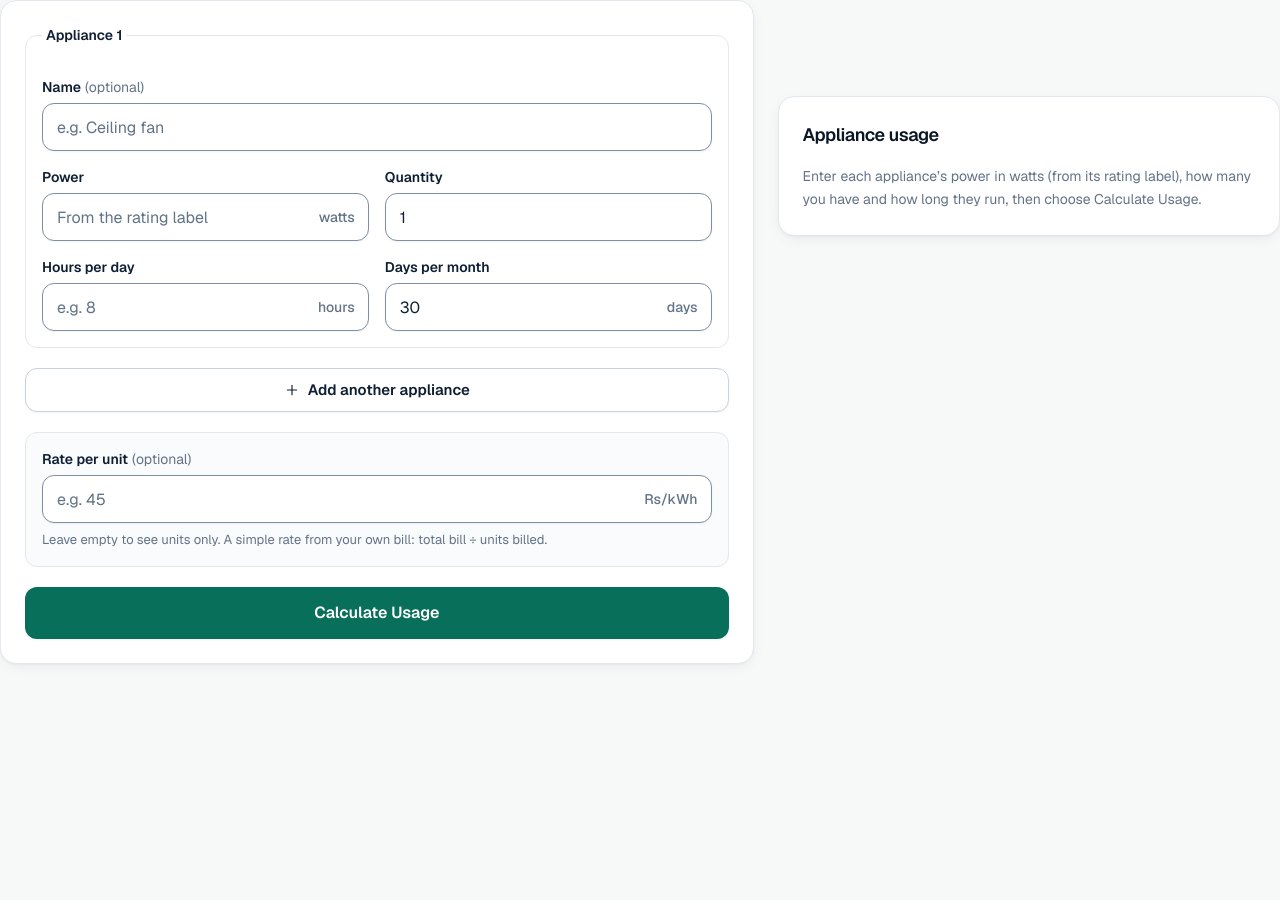
appliance calculator › shows units only when no rate is entered
Type "100" into the field labelled "Power" at (205, 217), box [42, 193, 369, 241]
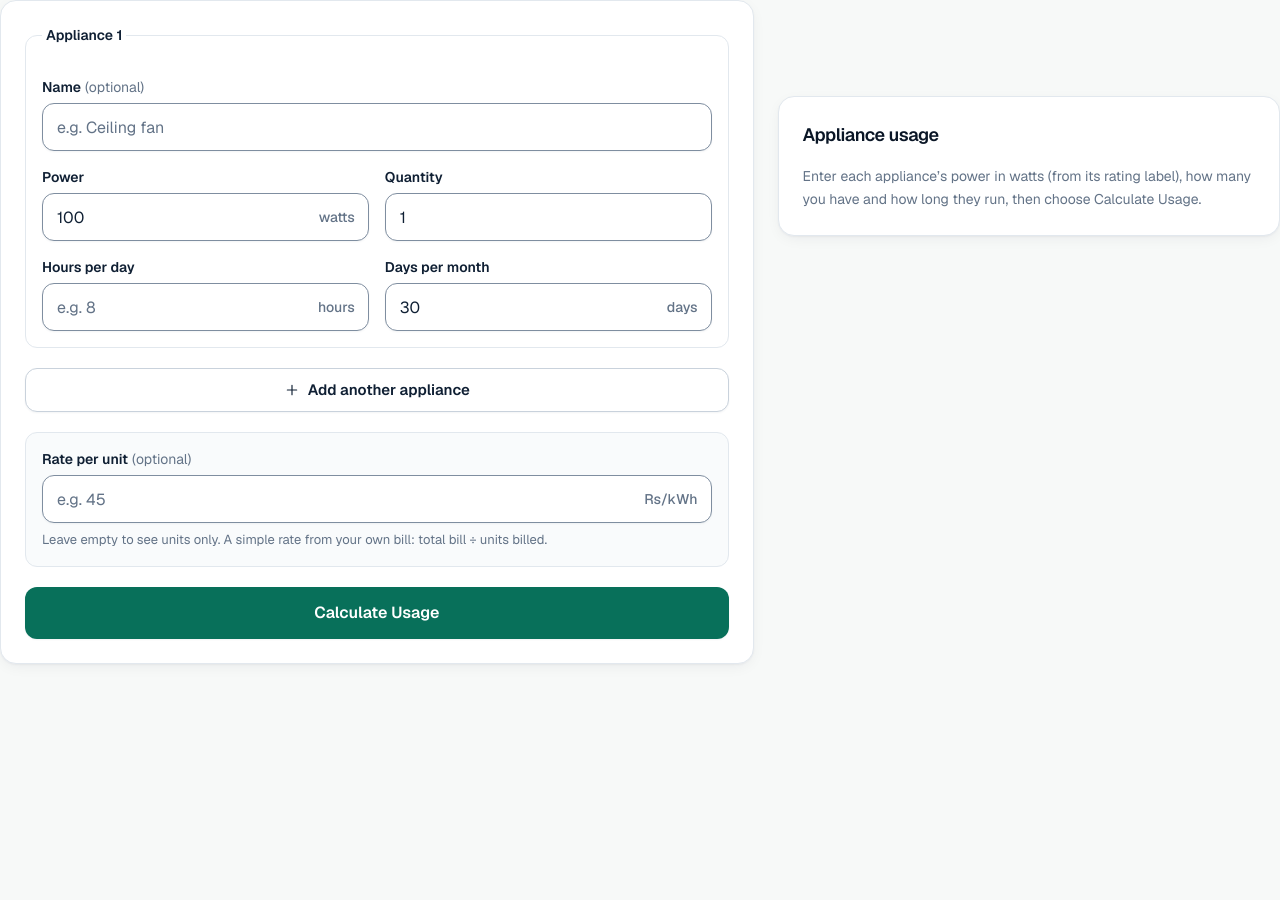
Type "24" into the field labelled "Hours per day" at (205, 307), box [42, 283, 369, 331]
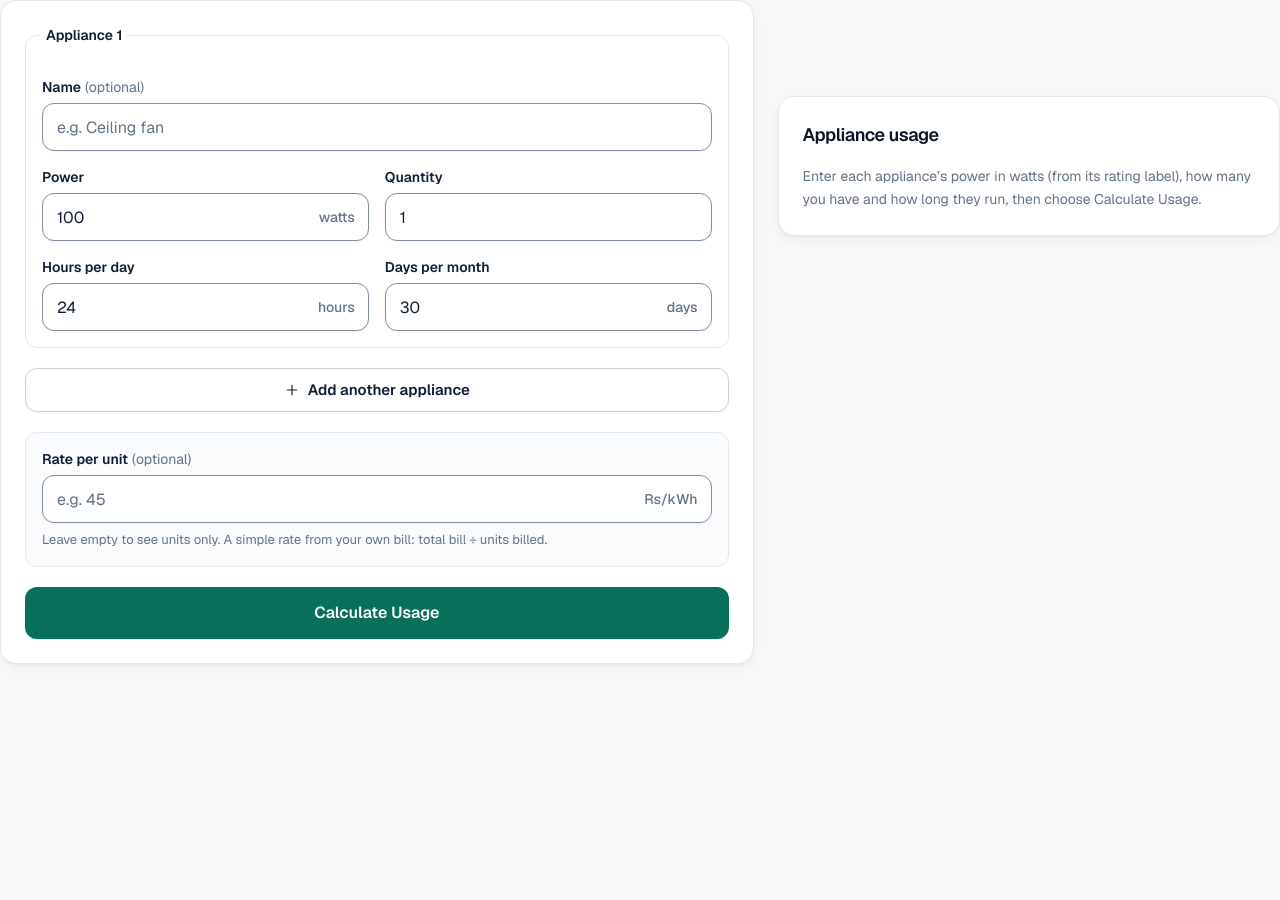
Click the button "Calculate Usage" at (377, 613), box [25, 587, 729, 639]
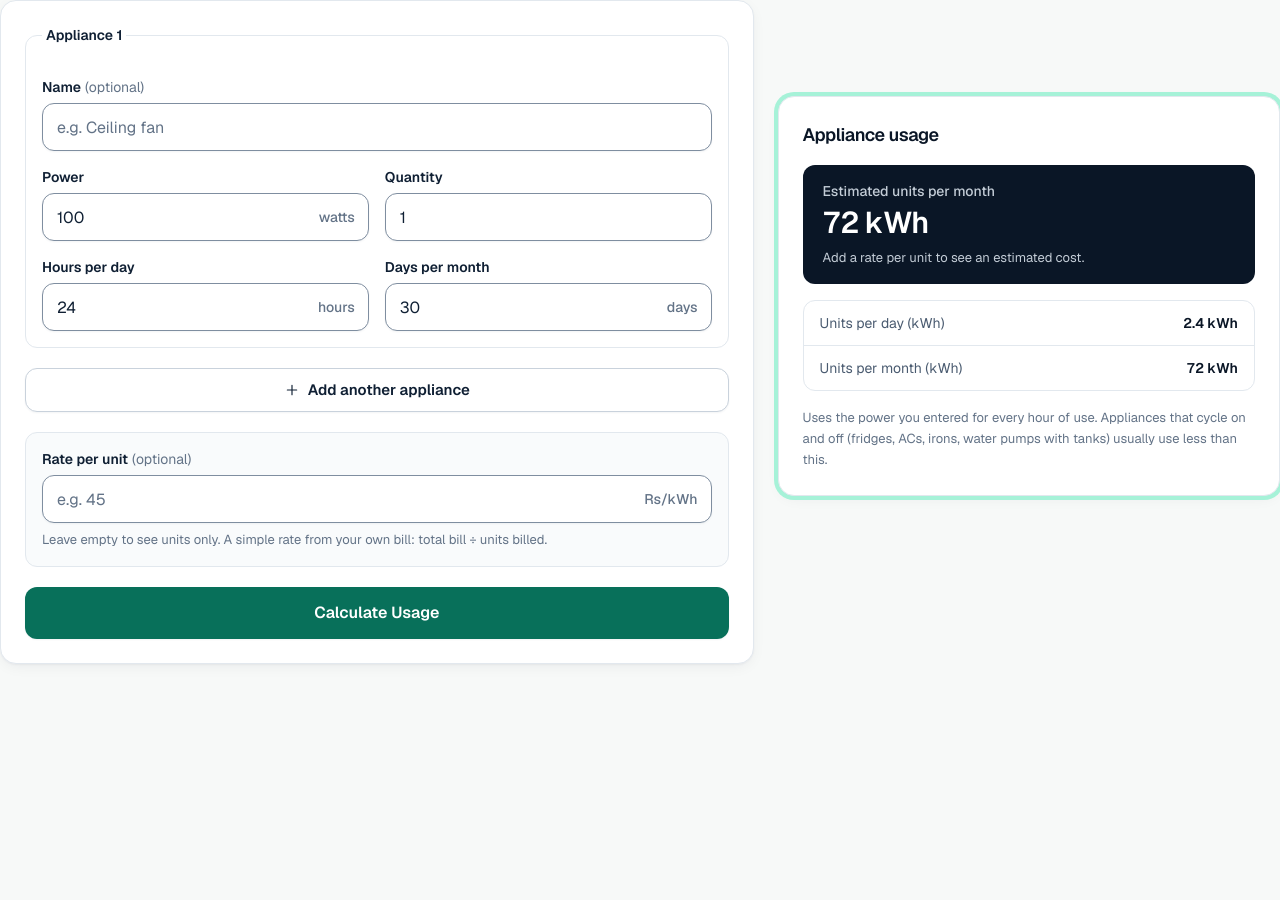
Expected: the text "2.4 kWh" is shown, [1183, 313, 1238, 333]
